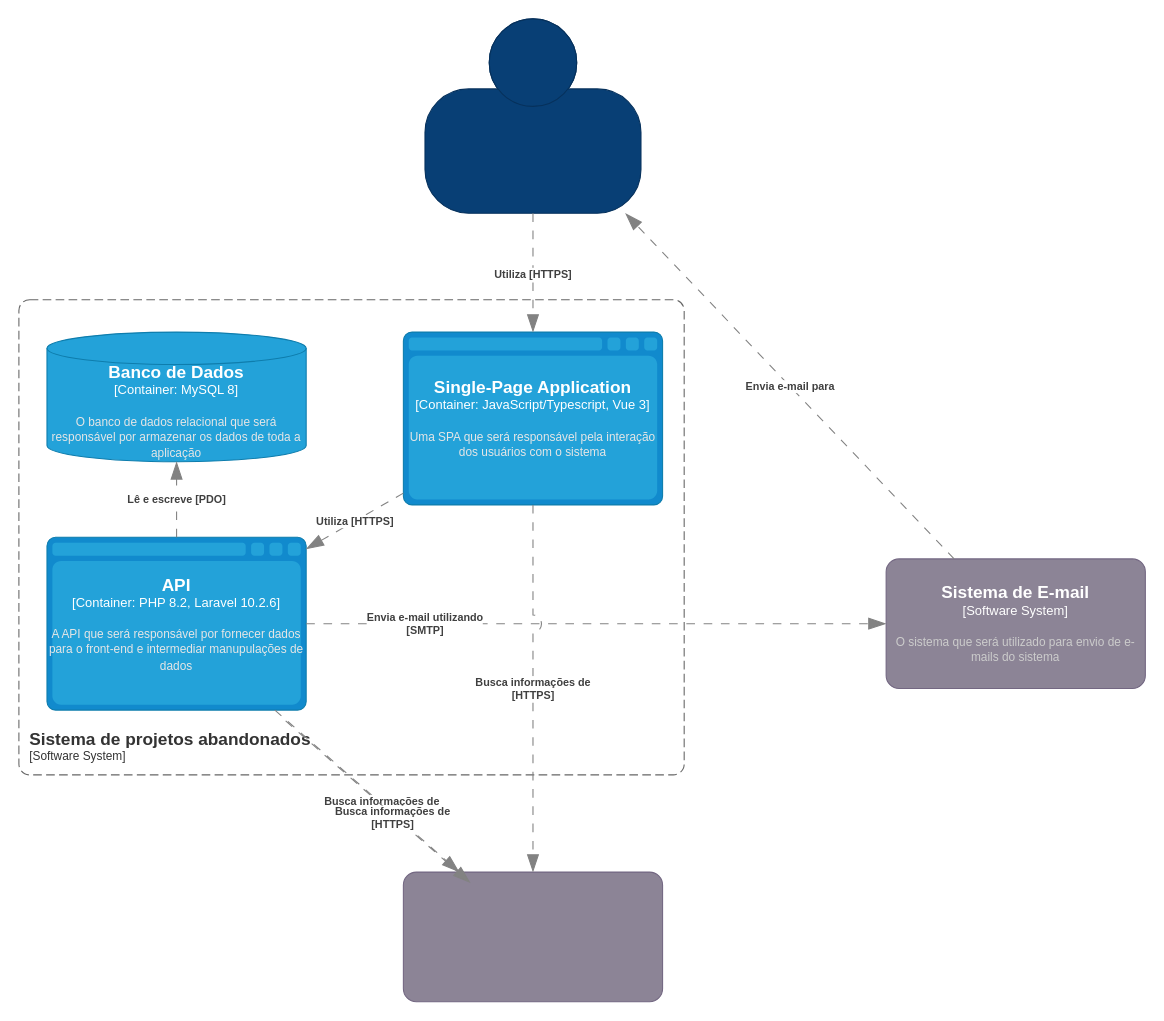
Some shapes in this 1164 by 1021 pixel diagram are drawn without their labels. The shapes that lost their labels are listed below. From the top down, each one's box as (x1, y1, x2, y2) in pixels, then its label:
(424, 18, 641, 213): Usuário (Admin/Cliente) [Person] Usuário do sistema
(402, 871, 663, 1002): Github [Software System] Sistema de repositório de projetos
